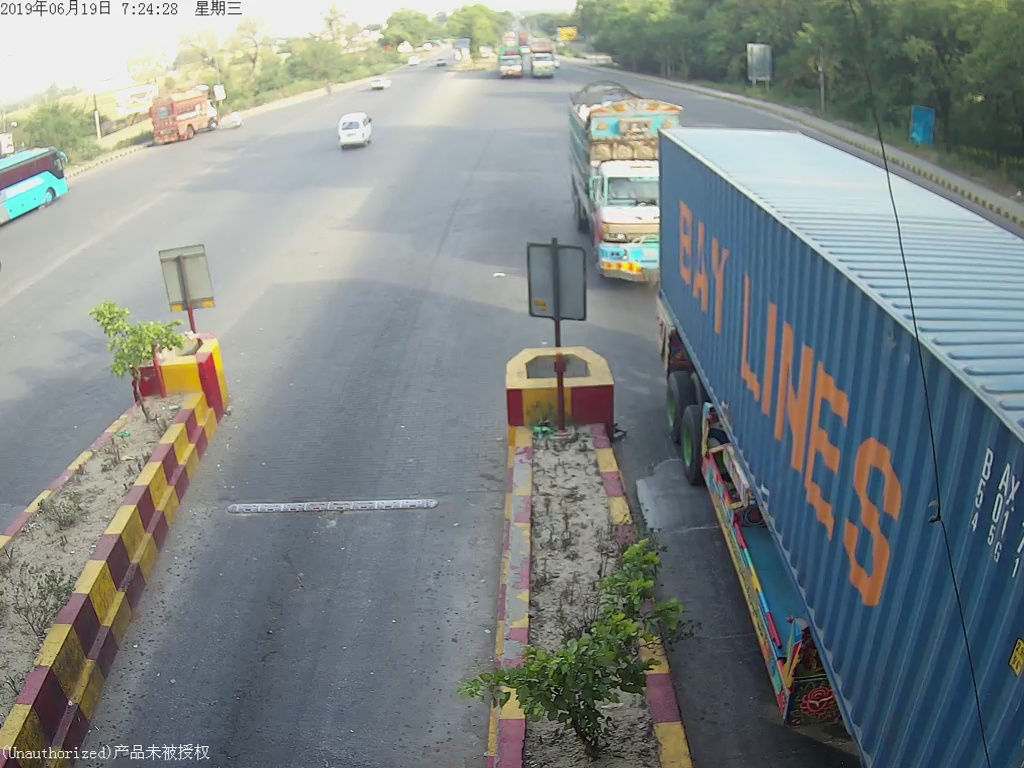Cat-4: (571, 84, 662, 276)
